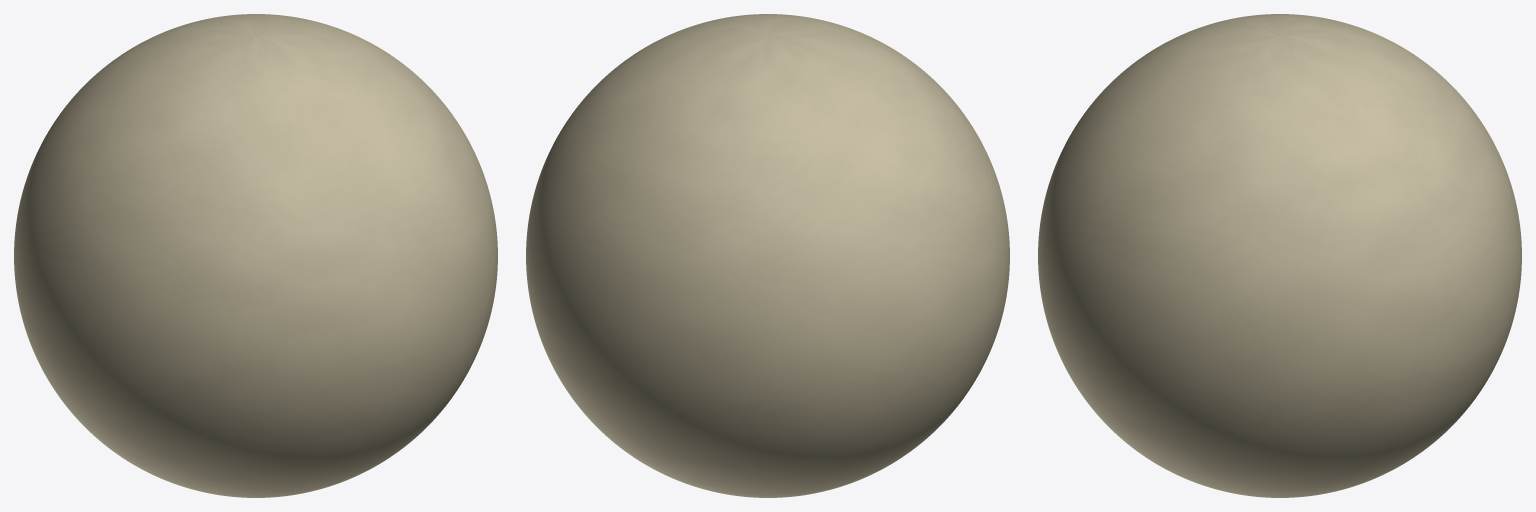
Rendered from cue.glb.
The picture shows the model from 3 angles, left to right: view 1: azimuth 30°, elevation 25°; view 2: azimuth 150°, elevation 25°; view 3: azimuth 270°, elevation 25°; orthographic projection.
Visible parts, largest first — view 1: Billiard_Cue_Ball; view 2: Billiard_Cue_Ball; view 3: Billiard_Cue_Ball.
Part boxes in pixels (x1=…): Billiard_Cue_Ball: x1=14, y1=14, x2=497, y2=497; Billiard_Cue_Ball: x1=526, y1=14, x2=1009, y2=497; Billiard_Cue_Ball: x1=1038, y1=14, x2=1521, y2=497.
Bounding box in the file's own units: 0.0571 × 0.0571 × 0.0571.
1 material, 1 textured.
